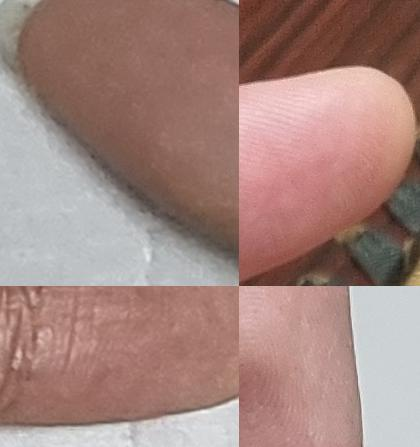Fingerprints: (19, 0, 239, 250), (239, 66, 416, 282), (0, 286, 239, 425), (239, 286, 363, 447)
